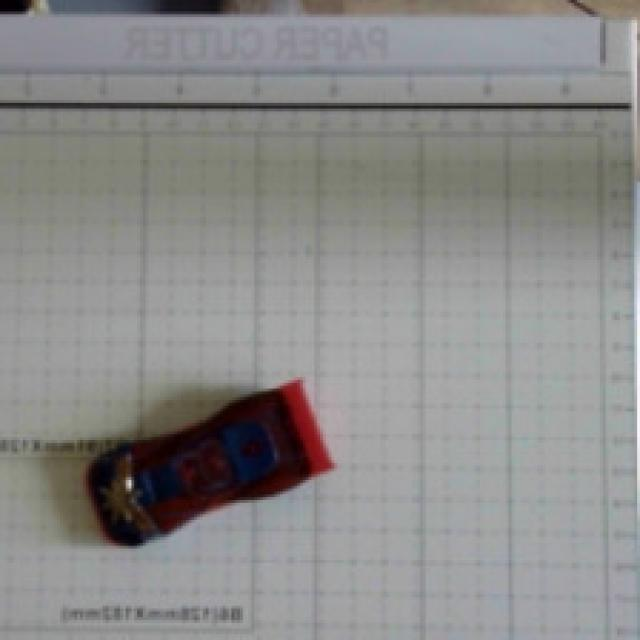Red Car: (74, 357, 346, 579)
